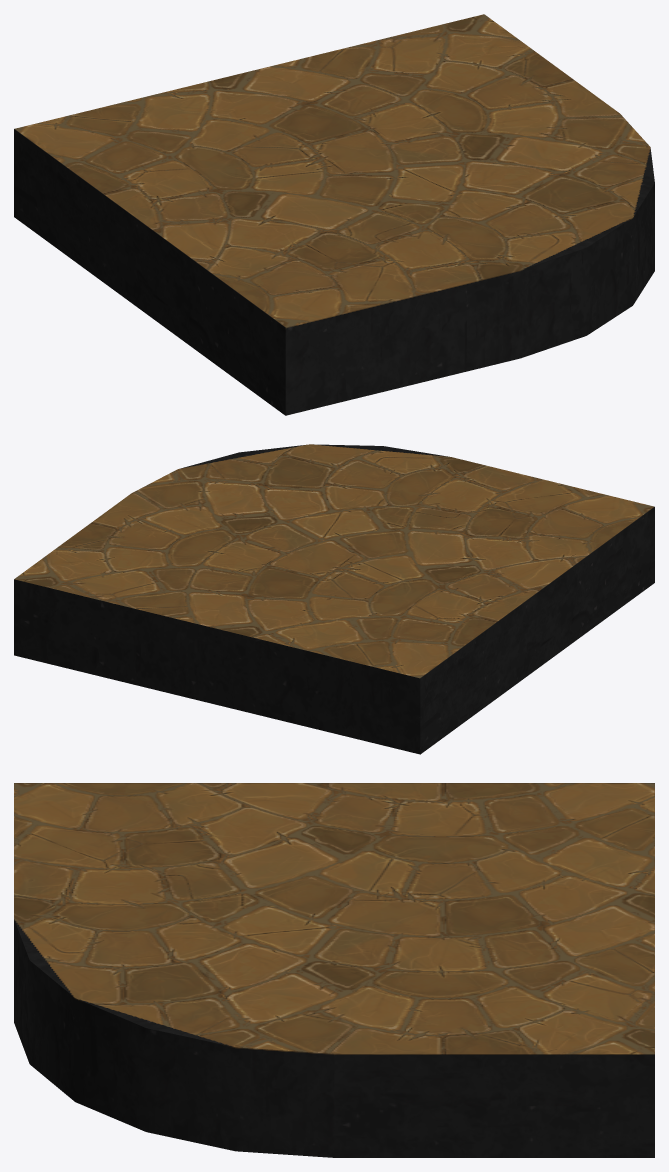
The model's file is GROUND_CORNER.glb.
3 renders of one model, top to bottom at view 1: azimuth 30°, elevation 25°; view 2: azimuth 150°, elevation 25°; view 3: azimuth 270°, elevation 25°, orthographic. The views are drawn at different scales.
Parts seen in each view (by area): view 1: [OBJ] Ground Corner; view 2: [OBJ] Ground Corner; view 3: [OBJ] Ground Corner.
Part boxes in pixels (bbox=[...]): [OBJ] Ground Corner: bbox=[14, 14, 654, 415]; [OBJ] Ground Corner: bbox=[14, 444, 654, 754]; [OBJ] Ground Corner: bbox=[14, 783, 654, 1157].
Size of the model in its own units: 2 by 0.358 by 2.
1 material, 1 textured.
